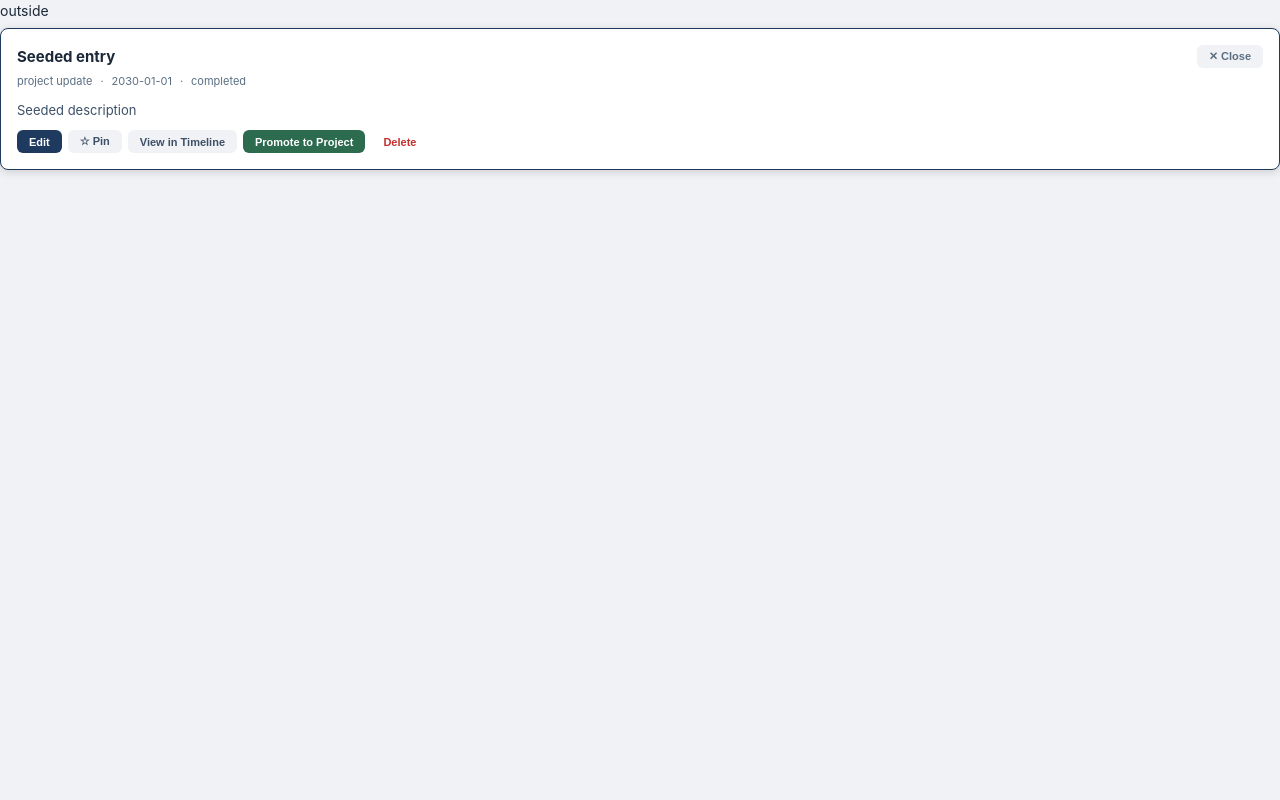
Scenario: useInlineEntry — inline entry panel dirty-state close guard (Task 9.14) › dirty Esc opens the DiscardConfirmDialog
The image size is (1280, 800).
expect the text "Seeded entry" is shown: met, box [17,47,115,66]
Click the button "Edit". click: point(39, 142)
box: [17,130,62,154]
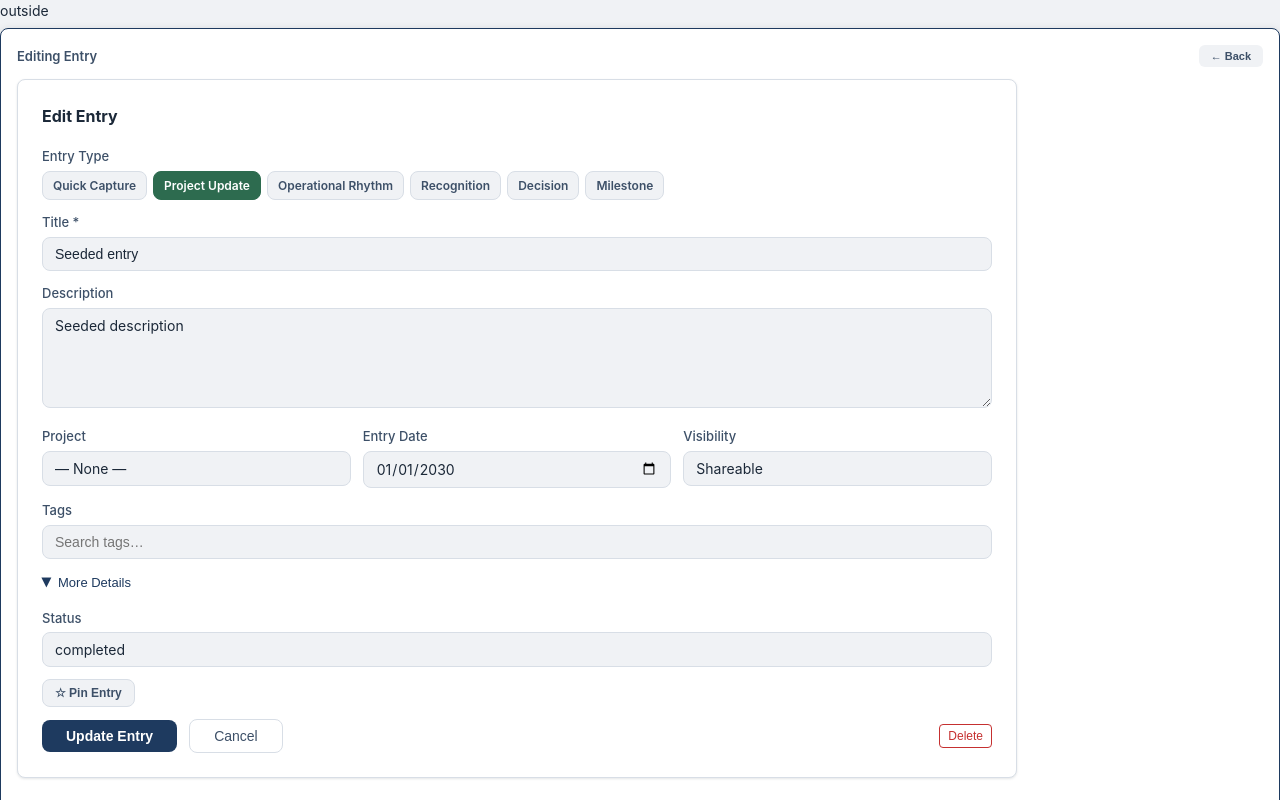
expect the text "Editing Entry" is shown: met, box [17,46,97,67]
Replace the text in the field showing "Seeded entry" with "Seeded entry edited". click: point(517, 254)
box: [42,237,992,271]
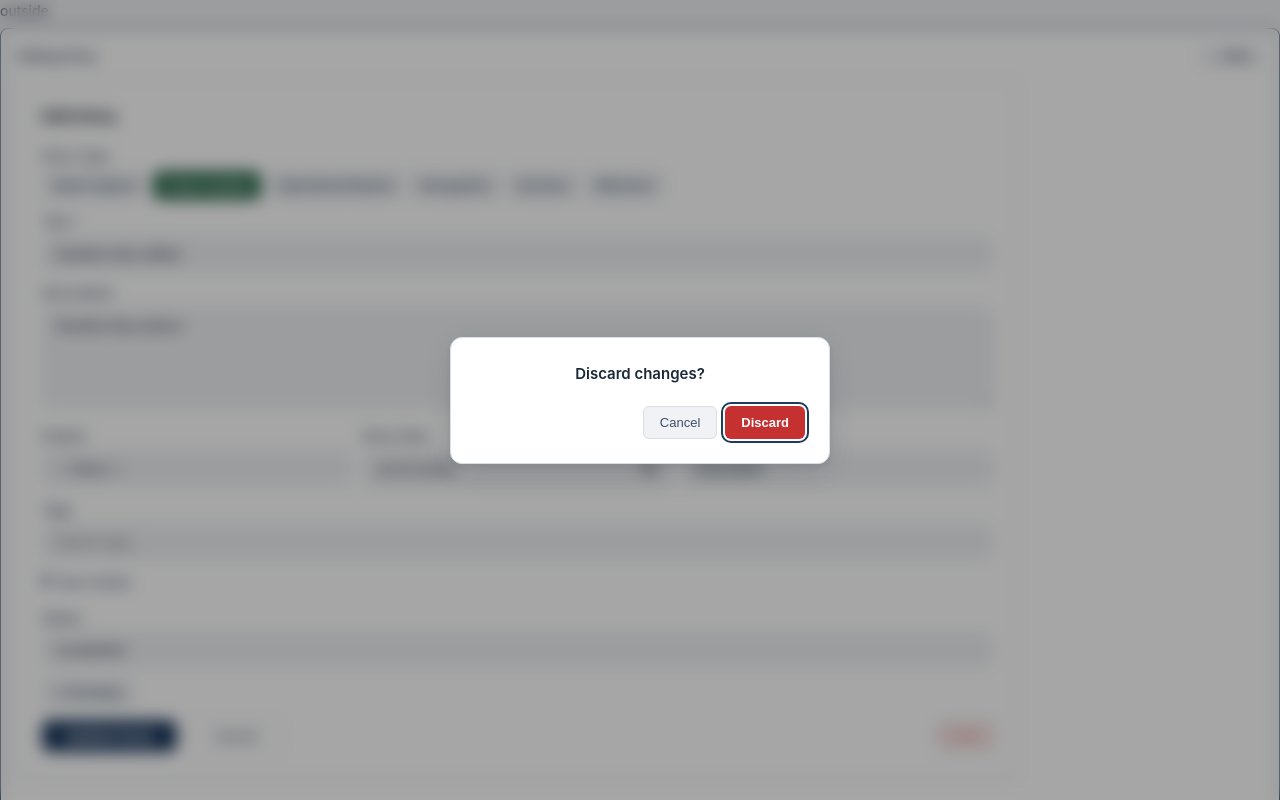
expect the dialog "Discard changes? Cancel Discard" is shown: met, box [450,336,830,464]
